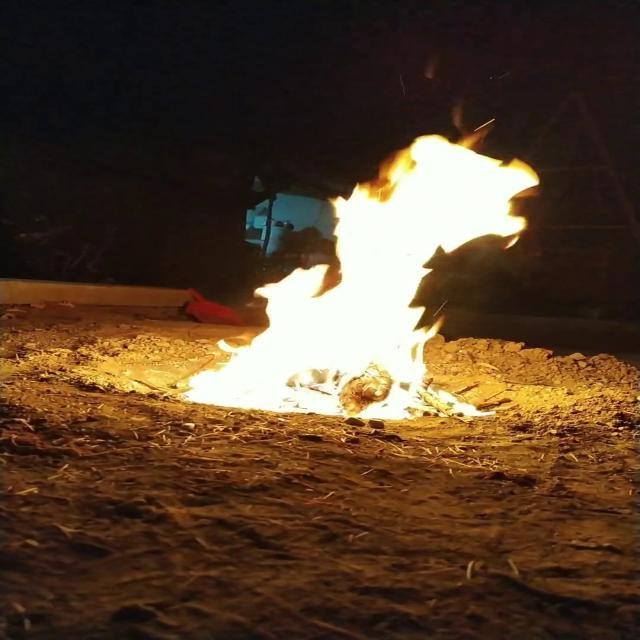Fire: (181, 106, 563, 420)
